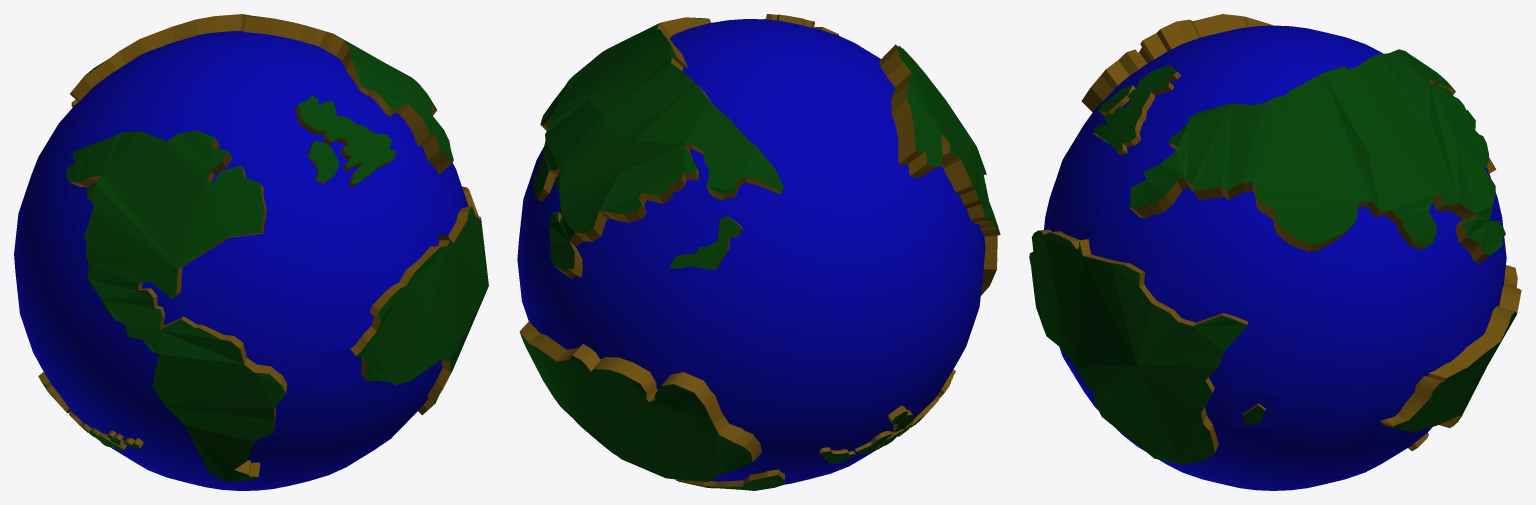
The model's file is World Complete.FBX.
3 views of the same model, side by side, from view 1: azimuth 30°, elevation 25°; view 2: azimuth 150°, elevation 25°; view 3: azimuth 270°, elevation 25° (orthographic).
Visible parts, largest first — view 1: World, USA, Africa001, Europe, UK, Australia; view 2: World, Europe, Australia, USA; view 3: World, Europe, Africa001, Australia, USA, UK.
Boxes of the visible parts, <box> form: World: <box>14,31,468,490</box>; USA: <box>66,130,287,481</box>; Africa001: <box>350,186,488,415</box>; Europe: <box>70,14,453,174</box>; UK: <box>294,95,395,187</box>; Australia: <box>38,372,143,451</box>; World: <box>517,19,985,490</box>; Europe: <box>533,17,783,278</box>; Australia: <box>519,321,955,482</box>; USA: <box>879,44,1000,295</box>; World: <box>1044,25,1506,490</box>; Europe: <box>1128,49,1505,264</box>; Africa001: <box>1029,229,1247,464</box>; Australia: <box>1380,265,1521,431</box>; USA: <box>1081,14,1273,112</box>; UK: <box>1093,64,1180,154</box>.
Bounding box in the file's own units: 139 × 137 × 145.
